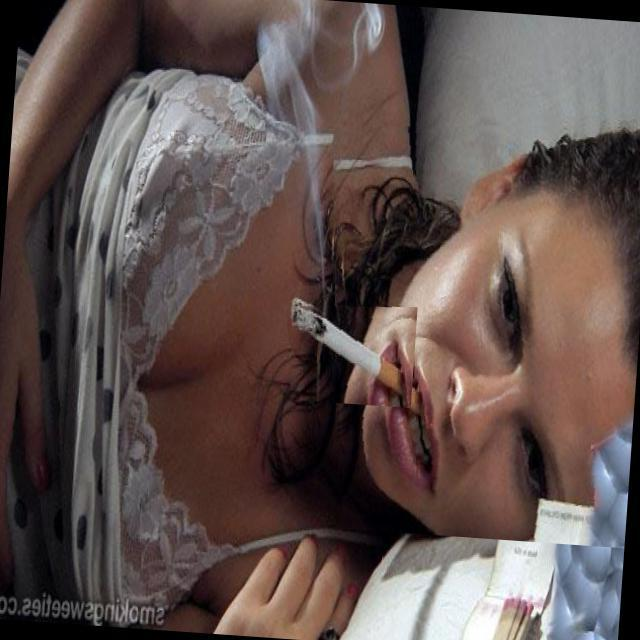cigarette: (286, 298, 418, 408)
